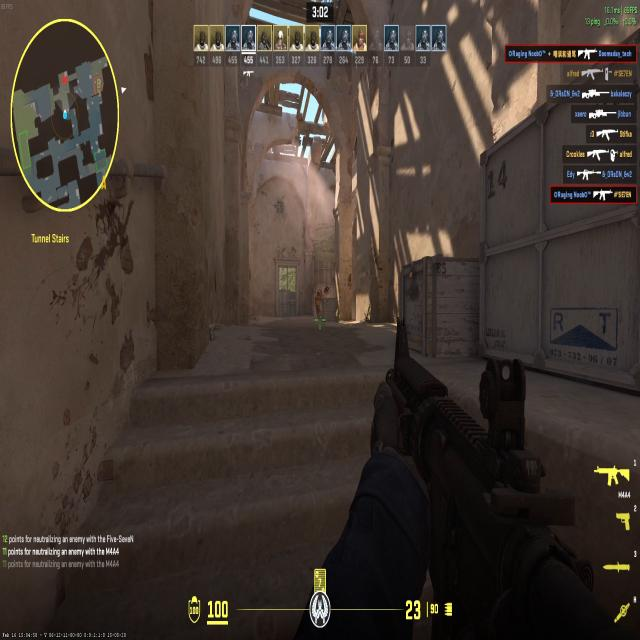player: (314, 284, 324, 319)
